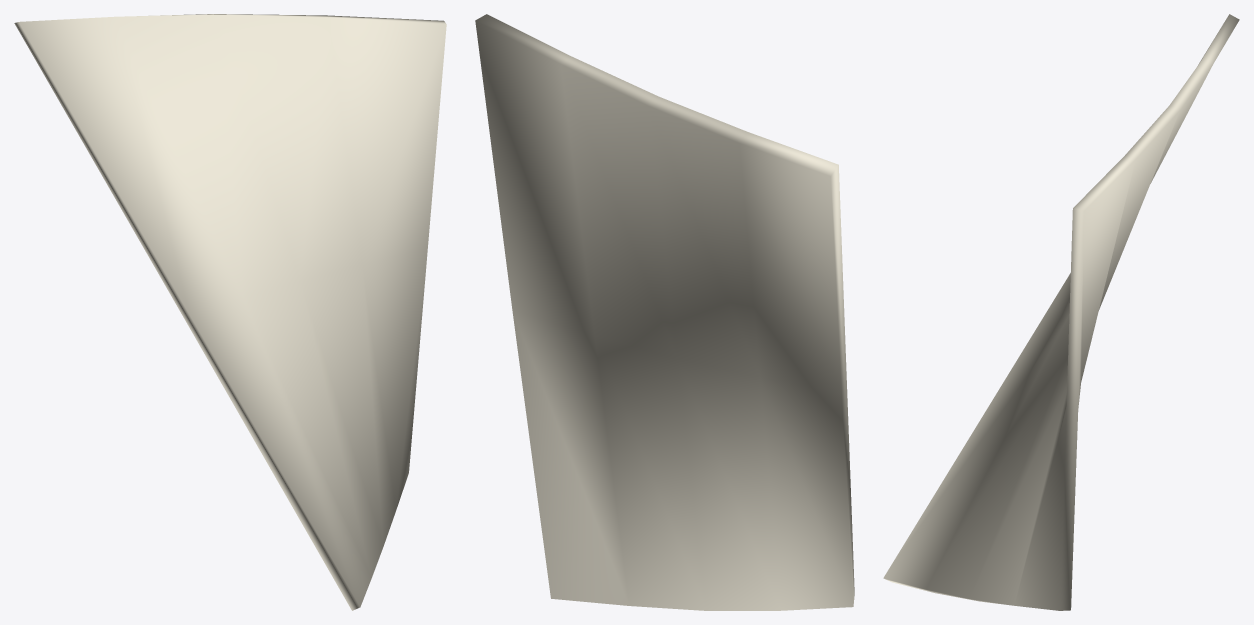
3 renders of one model, left to right at view 1: azimuth 30°, elevation 25°; view 2: azimuth 150°, elevation 25°; view 3: azimuth 270°, elevation 25°, orthographic. The views are drawn at different scales.
Visible parts, largest first — view 1: ZA_75bb28c4b2b07689; view 2: ZA_75bb28c4b2b07689; view 3: ZA_75bb28c4b2b07689.
Boxes of the visible parts, x1,y1,x2,y2 form: ZA_75bb28c4b2b07689: (14, 14, 446, 610); ZA_75bb28c4b2b07689: (475, 14, 854, 610); ZA_75bb28c4b2b07689: (883, 14, 1239, 610).
Bounding box in the file's own units: 0.0167 × 0.0228 × 0.015.
